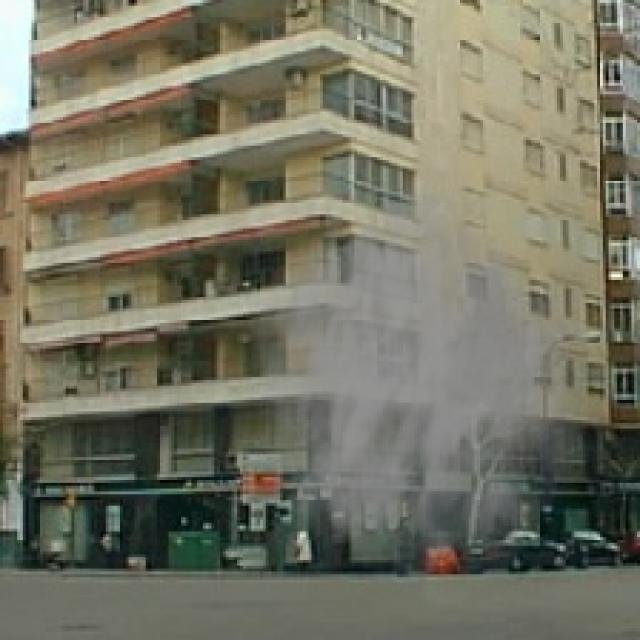smoke: (246, 189, 603, 614)
